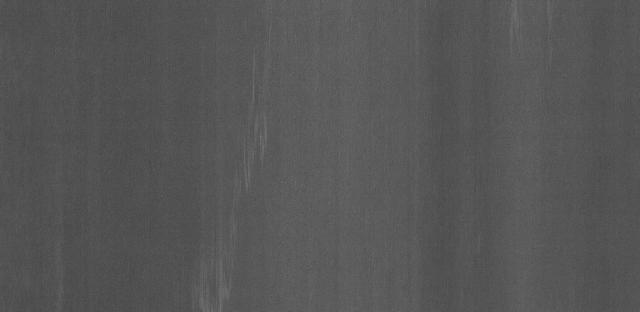silk_spot: (223, 66, 284, 199)
